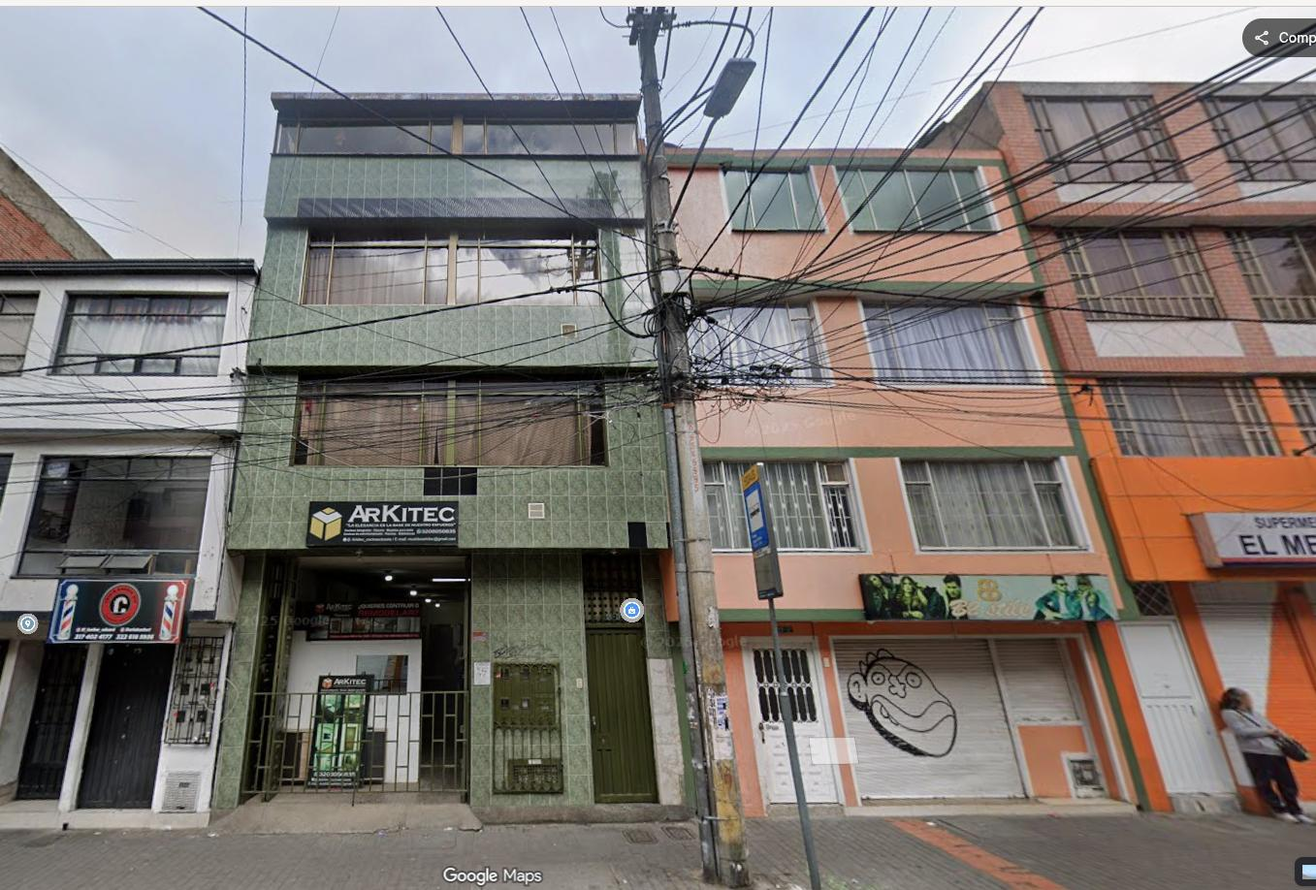casa: (218, 93, 686, 820), (667, 143, 1132, 811), (925, 76, 1315, 807)
poste: (632, 8, 750, 887)
